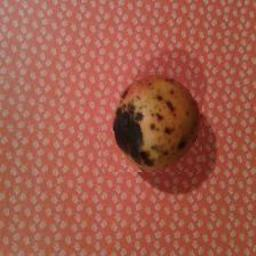Mango Rotten: (96, 71, 202, 172)
